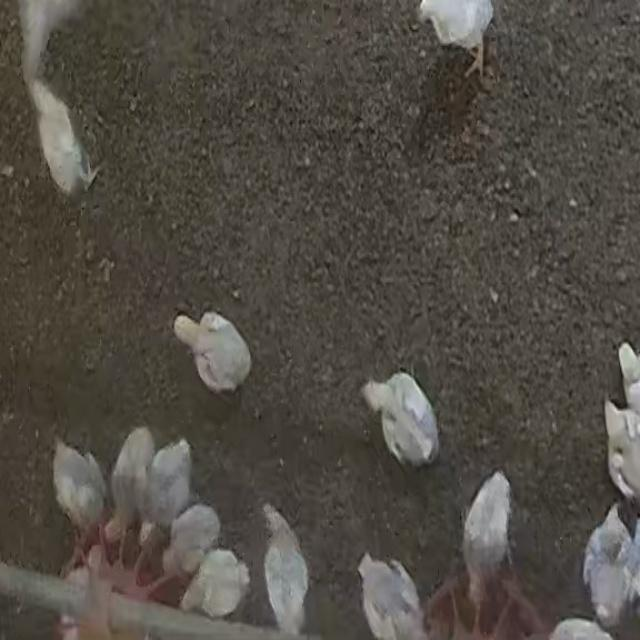chicken: (31, 79, 99, 200), (582, 502, 636, 630), (364, 371, 438, 464), (460, 473, 512, 605), (52, 438, 108, 560), (172, 310, 252, 393), (259, 500, 307, 636), (356, 552, 427, 640), (108, 424, 155, 555), (144, 436, 195, 550), (159, 501, 220, 591), (410, 2, 495, 66), (183, 548, 250, 621), (604, 404, 640, 492)
